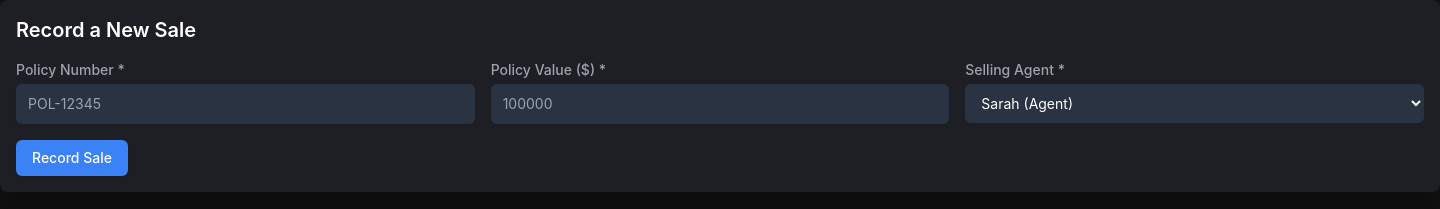
Test: SalesForm Component › displays API error message for duplicate policy
In the field labelled "Policy Number *": [245, 104] box [16,84,475,124], type "POL-DUP"
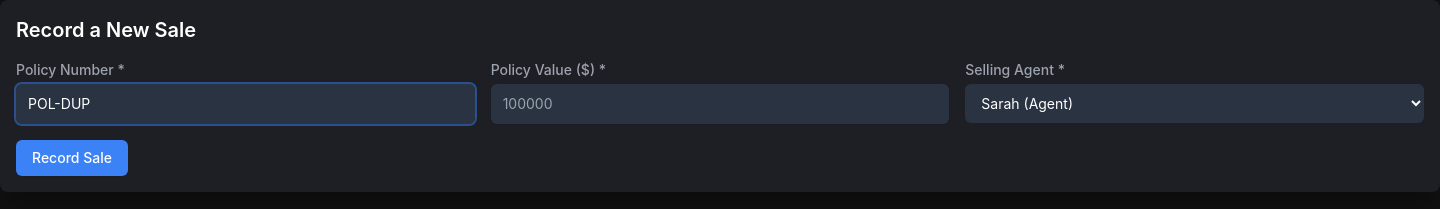
In the number field labelled "Policy Value ($) *": [720, 104] box [491,84,949,124], type "50000"
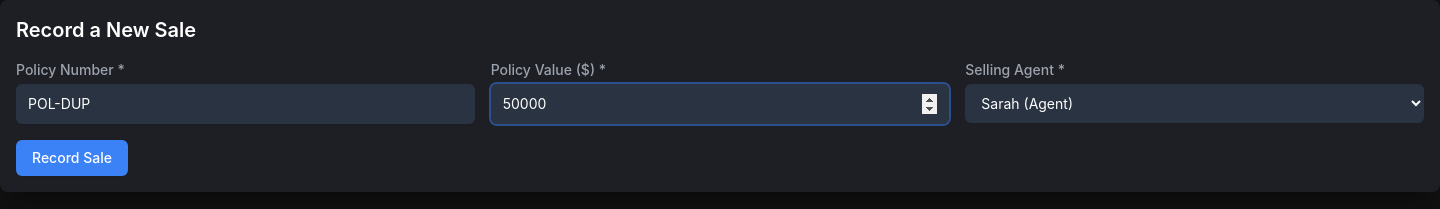
Click the button "Record Sale": [72, 158] box [16,140,128,176]
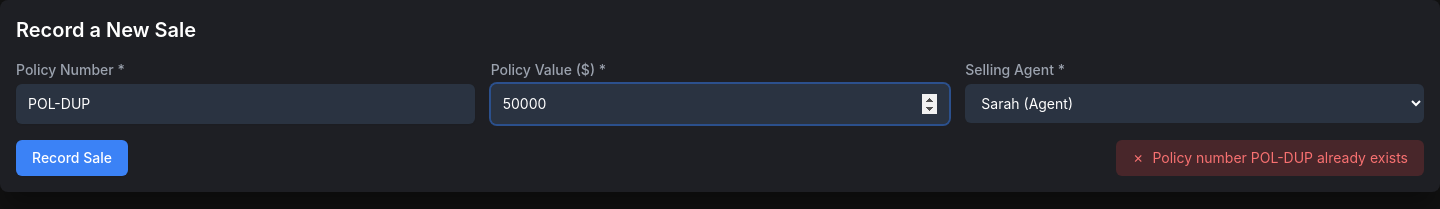
Expected: the text "Policy number POL-DUP already exists" is shown, [1152,148,1408,168]
